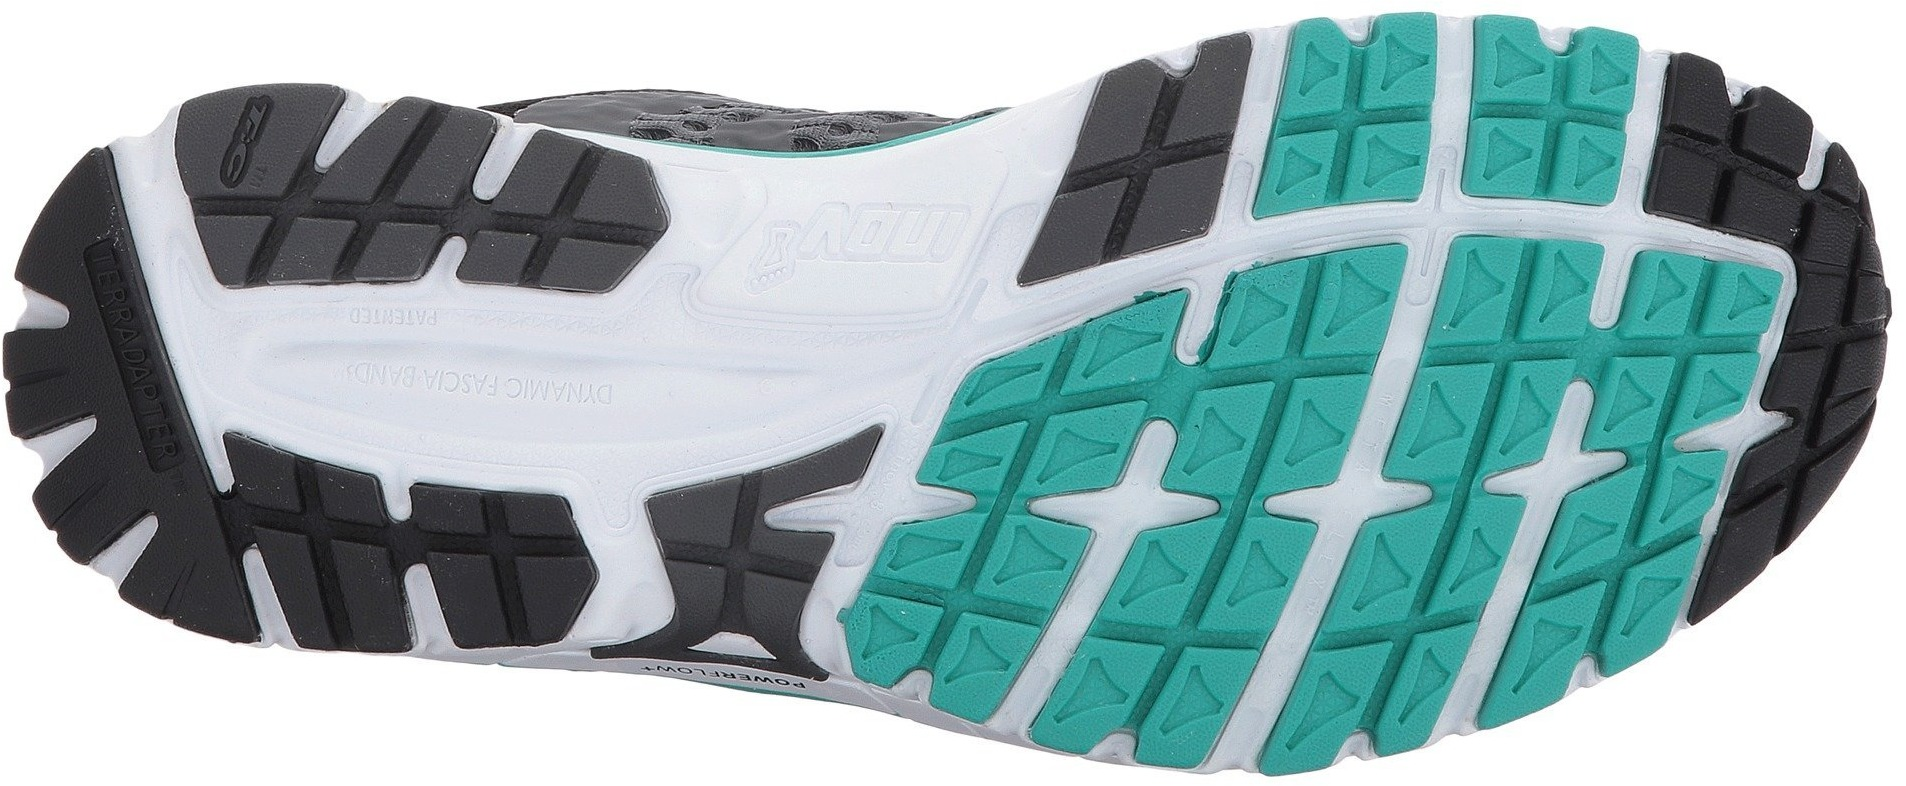bowtie: (754, 217, 806, 283)
line: (32, 230, 202, 504), (175, 89, 333, 245)
quad: (1440, 259, 1705, 560), (947, 366, 1185, 631), (374, 443, 611, 684), (1195, 241, 1410, 498), (32, 230, 202, 504), (175, 89, 333, 245), (95, 369, 213, 490), (57, 231, 156, 354)
text: (32, 230, 202, 504), (175, 89, 333, 245), (95, 369, 213, 490), (57, 231, 156, 354), (506, 358, 597, 443)
triangle: (1440, 259, 1705, 560), (947, 366, 1185, 631), (1195, 241, 1410, 498)
